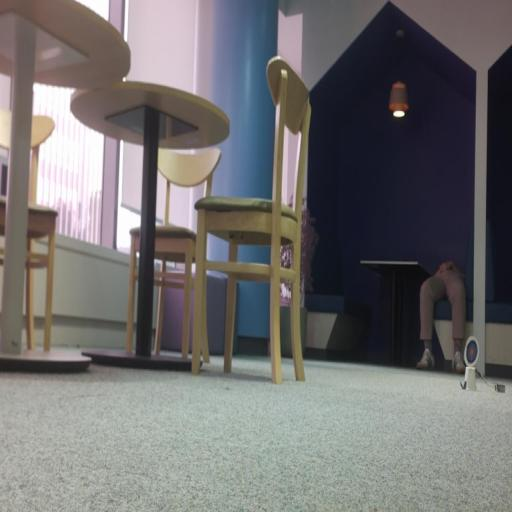target: (464, 336, 479, 366)
